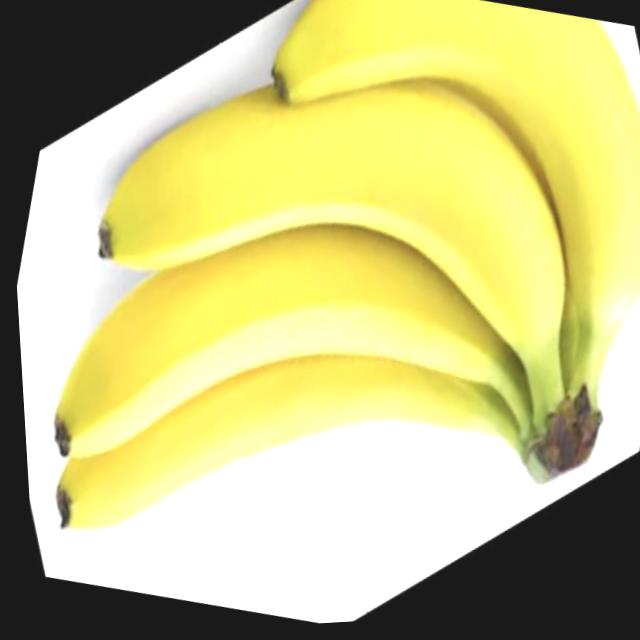Banana: (6, 0, 640, 640)
